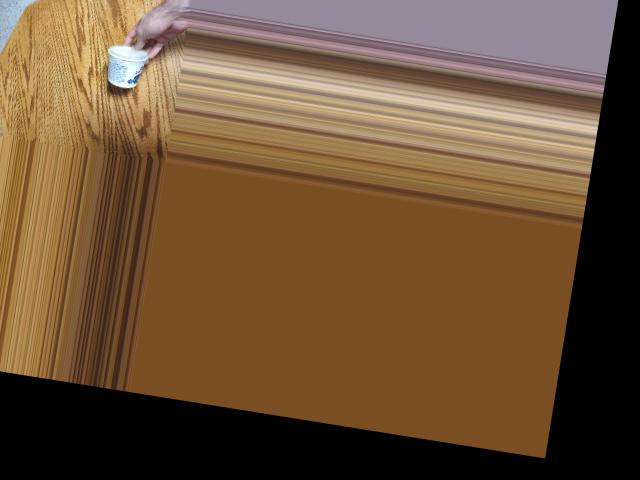cotage: (99, 42, 149, 85)
